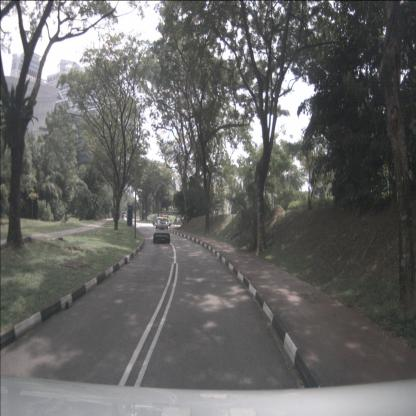vehicle-car: (153, 216, 170, 244)
